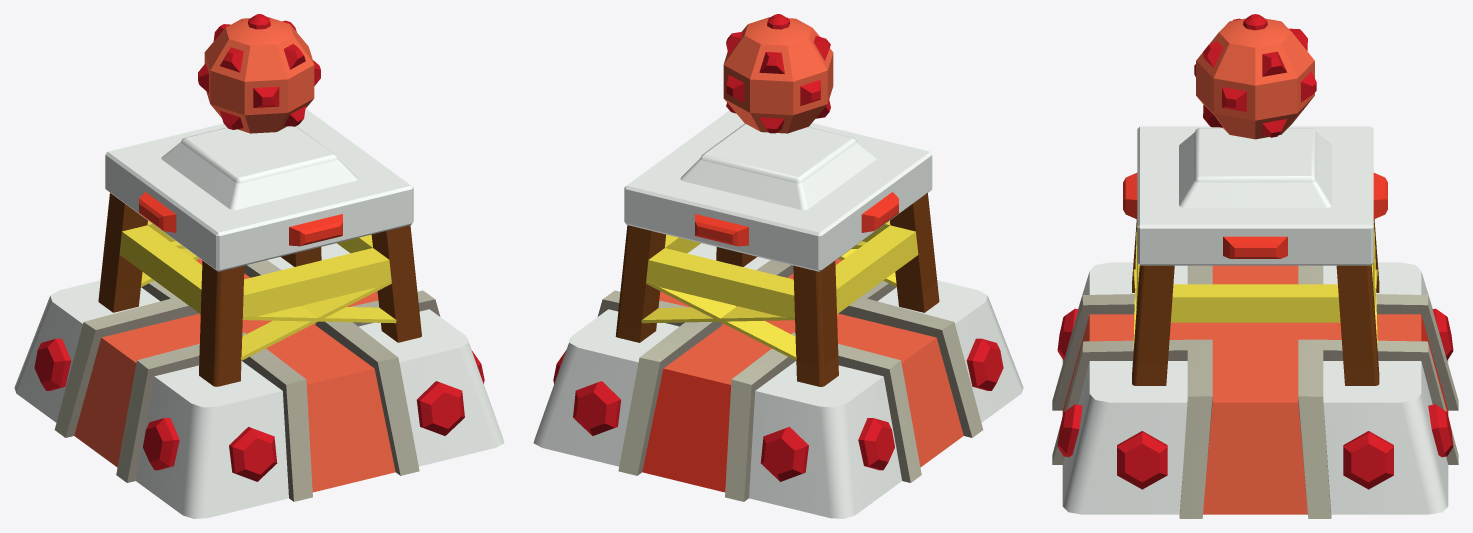
The model's file is island5pink-defense2.fbx.
The picture shows the model from 3 angles, left to right: view 1: azimuth 30°, elevation 25°; view 2: azimuth 150°, elevation 25°; view 3: azimuth 270°, elevation 25°; orthographic projection. The views are drawn at different scales.
Visible parts, largest first — view 1: island5(pink)-defense2, island5(pink)-defense2.01; view 2: island5(pink)-defense2, island5(pink)-defense2.01; view 3: island5(pink)-defense2, island5(pink)-defense2.01.
Part boxes in pixels (bbox=[...]): island5(pink)-defense2: bbox=[14, 108, 504, 518]; island5(pink)-defense2.01: bbox=[198, 14, 320, 133]; island5(pink)-defense2: bbox=[533, 110, 1023, 518]; island5(pink)-defense2.01: bbox=[723, 14, 833, 133]; island5(pink)-defense2: bbox=[1052, 126, 1458, 518]; island5(pink)-defense2.01: bbox=[1194, 14, 1316, 139].
Bounding box in the file's own units: 2.52 × 2.86 × 2.52.
1 material, 1 textured.
